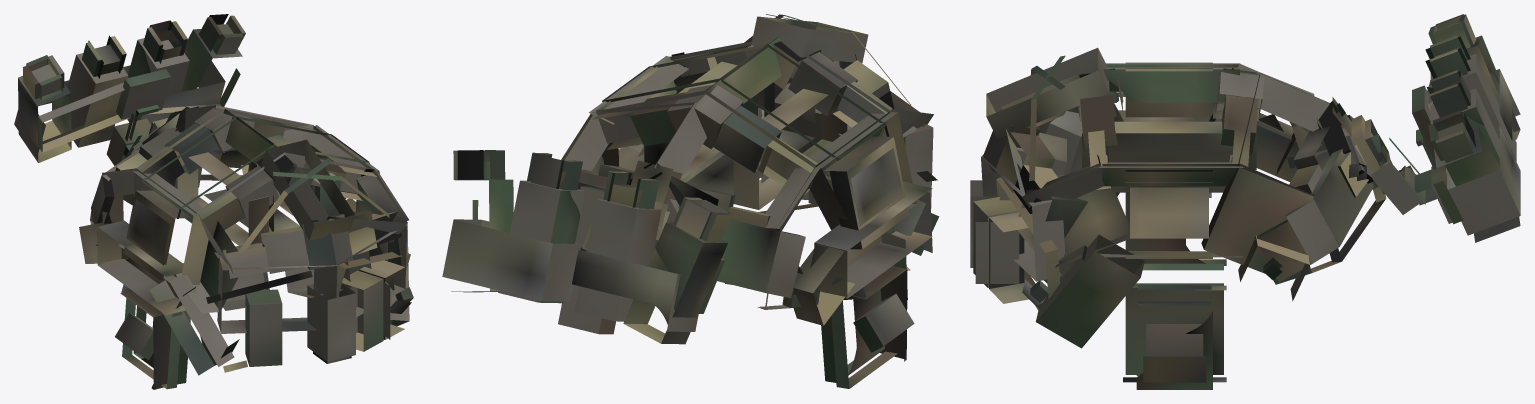
The model's file is gpnvg_h.obj.
The picture shows the model from 3 angles, left to right: view 1: azimuth 30°, elevation 25°; view 2: azimuth 150°, elevation 25°; view 3: azimuth 270°, elevation 25°; orthographic projection. The views are drawn at different scales.
Parts seen in each view (by area): view 1: gpnvh_h; view 2: gpnvh_h; view 3: gpnvh_h.
Boxes of the visible parts, x1,y1,x2,y2 form: gpnvh_h: (14,14,413,389); gpnvh_h: (442,14,939,388); gpnvh_h: (970,14,1520,389).
Size of the model in its own units: 0.7742 by 0.671 by 1.26.
